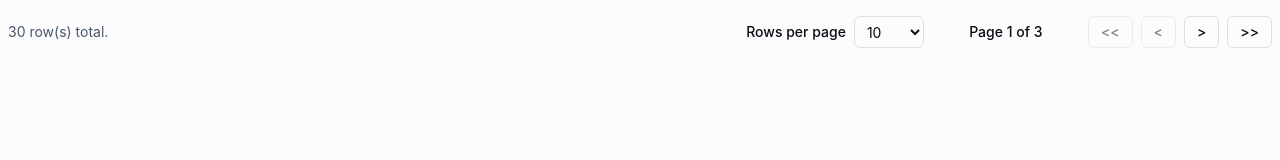
Test: TablePagination › button disabled states › disables next buttons on last page
# Navigate to last page
Click the button ">>".
click(1250, 32)  # box x1=1227 y1=16 x2=1272 y2=48
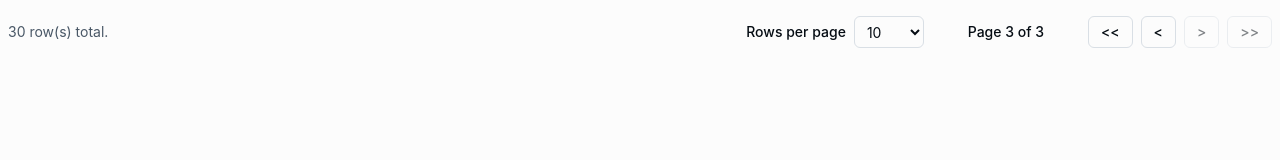
Expected: the button "<" is enabled, x1=1141 y1=16 x2=1176 y2=48
Expected: the button "<<" is enabled, x1=1088 y1=16 x2=1133 y2=48
Expected: the button ">>" is disabled, x1=1227 y1=16 x2=1272 y2=48
